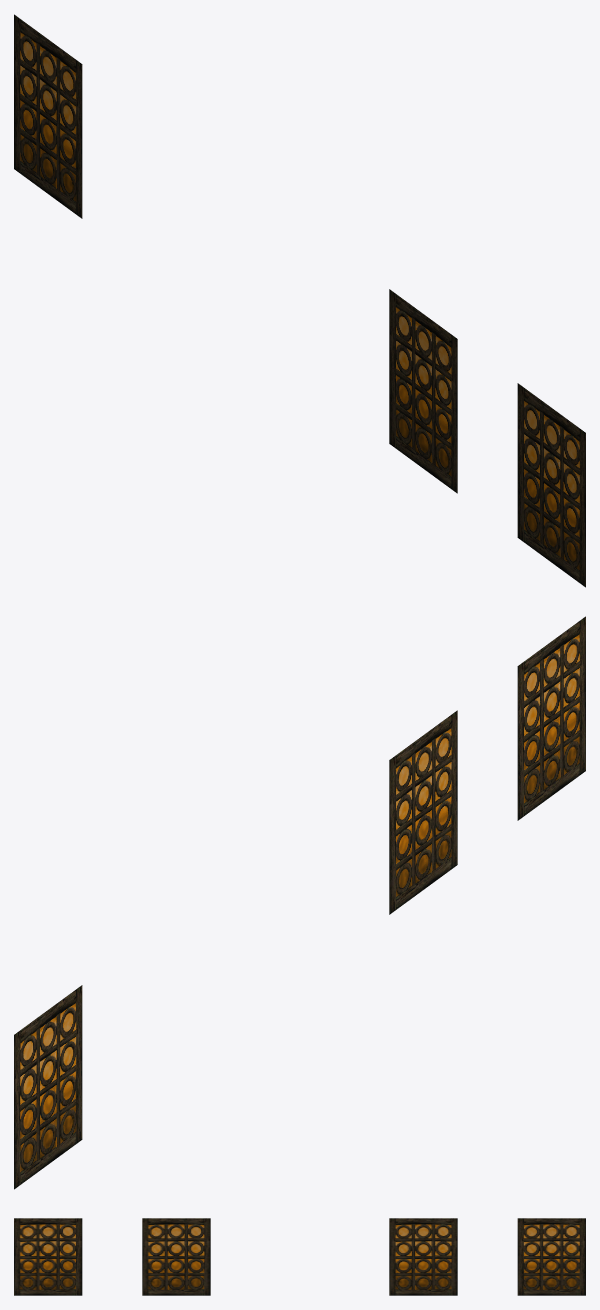
The model's file is LAKETOWN_EXTERIOR_PS_LT_WINDOWS_73736.fbx.
The picture shows the model from 3 angles, top to bottom: view 1: azimuth 30°, elevation 25°; view 2: azimuth 150°, elevation 25°; view 3: azimuth 270°, elevation 25°; orthographic projection. The views are drawn at different scales.
Visible parts, largest first — view 1: LAKETOWN_EXTERIOR_PS_LT_WINDOWS_73736; view 2: LAKETOWN_EXTERIOR_PS_LT_WINDOWS_73736; view 3: LAKETOWN_EXTERIOR_PS_LT_WINDOWS_73736.
Part boxes in pixels (bbox=[...]): LAKETOWN_EXTERIOR_PS_LT_WINDOWS_73736: bbox=[14, 14, 585, 587]; LAKETOWN_EXTERIOR_PS_LT_WINDOWS_73736: bbox=[14, 616, 585, 1189]; LAKETOWN_EXTERIOR_PS_LT_WINDOWS_73736: bbox=[14, 1218, 585, 1295].
Size of the model in its own units: 0.0244 by 14646 by 98078.
Materials: 1 (1 with a texture image).
